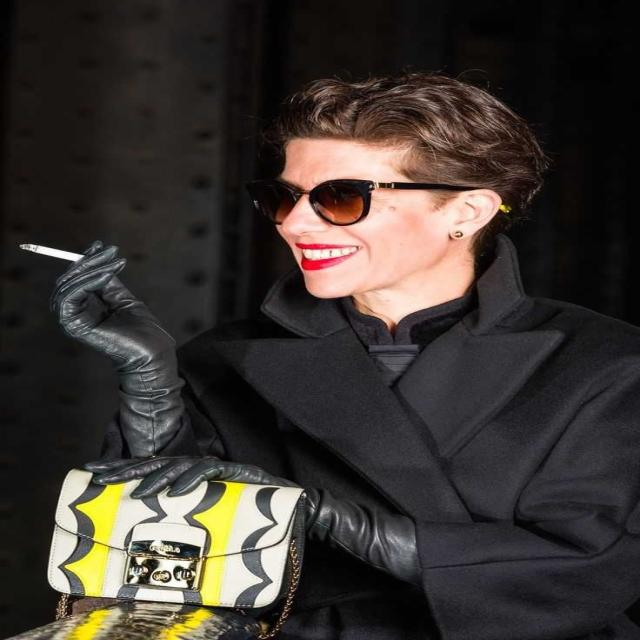Smooking: (11, 236, 90, 270)
